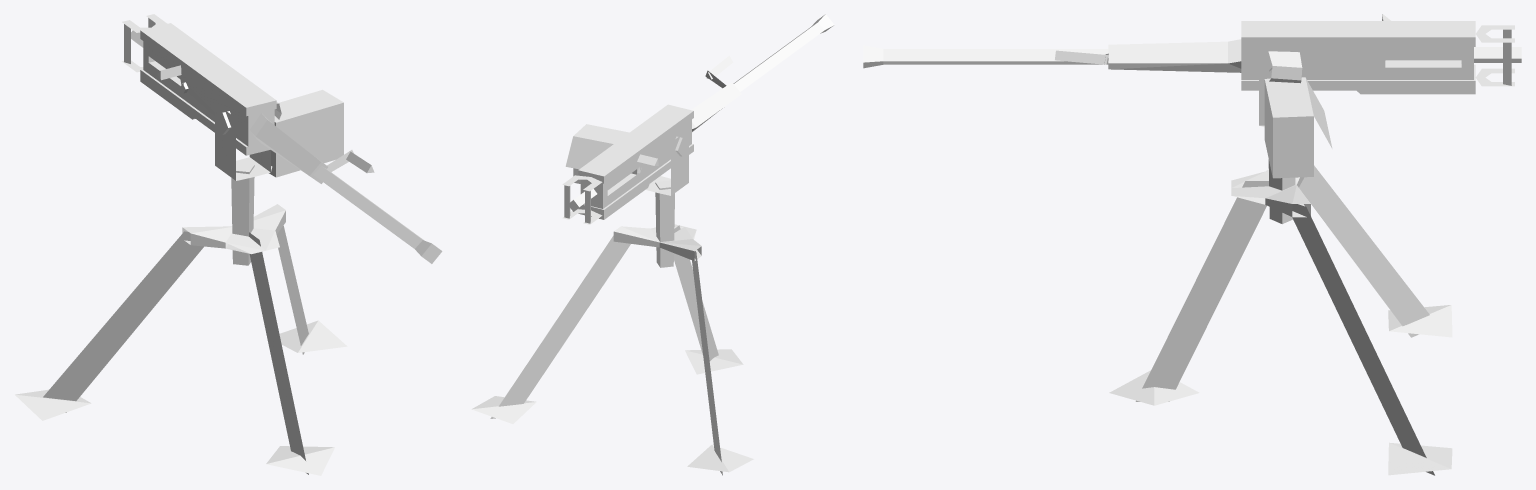
The model's file is m2Old.glb.
The picture shows the model from 3 angles, left to right: view 1: azimuth 30°, elevation 25°; view 2: azimuth 150°, elevation 25°; view 3: azimuth 270°, elevation 25°; orthographic projection. The views are drawn at different scales.
Parts seen in each view (by area): view 1: m2_Old; view 2: m2_Old; view 3: m2_Old.
Boxes of the visible parts, x1,y1,x2,y2 form: m2_Old: (15,14,442,475); m2_Old: (471,14,834,475); m2_Old: (863,14,1521,475).
Size of the model in its own units: 1.36 by 1.43 by 2.28.
Materials: 2 (2 with a texture image).
